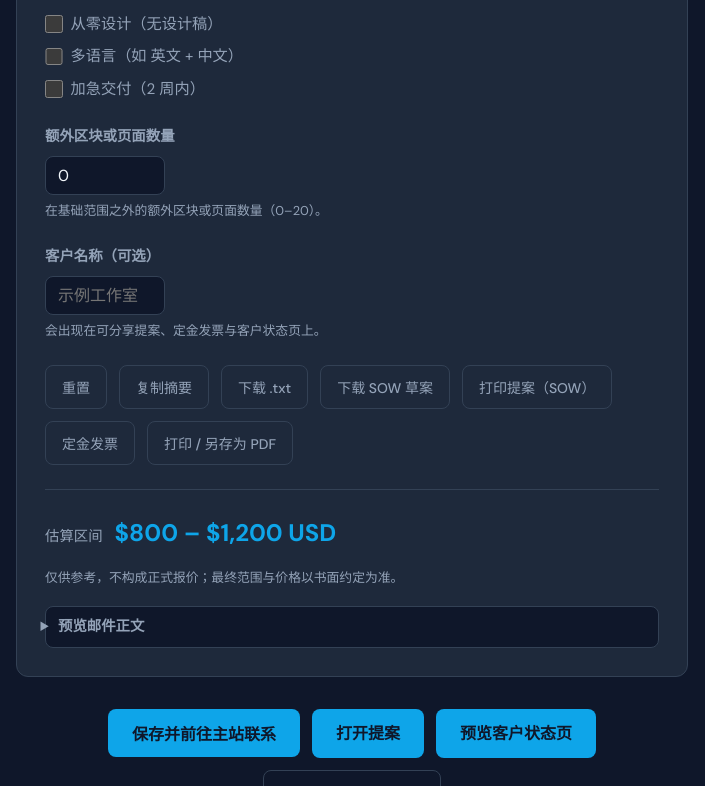
Test: Calculator › shows copy failure when the clipboard rejects
(page scrolled)
What coordinates should you click on to do the following:
click the button with aria-label "将估算摘要复制到剪贴板"
I would click on:
 (164, 387)
Its box is x1=119 y1=365 x2=209 y2=409.
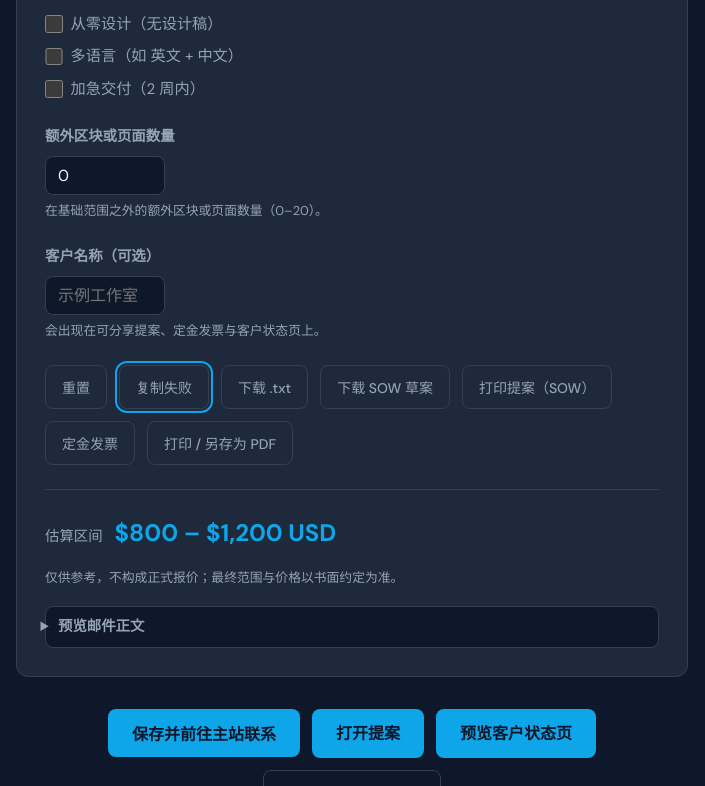
Expected: the button with aria-label "将估算摘要复制到剪贴板" reads "复制失败", x1=119 y1=365 x2=209 y2=409
